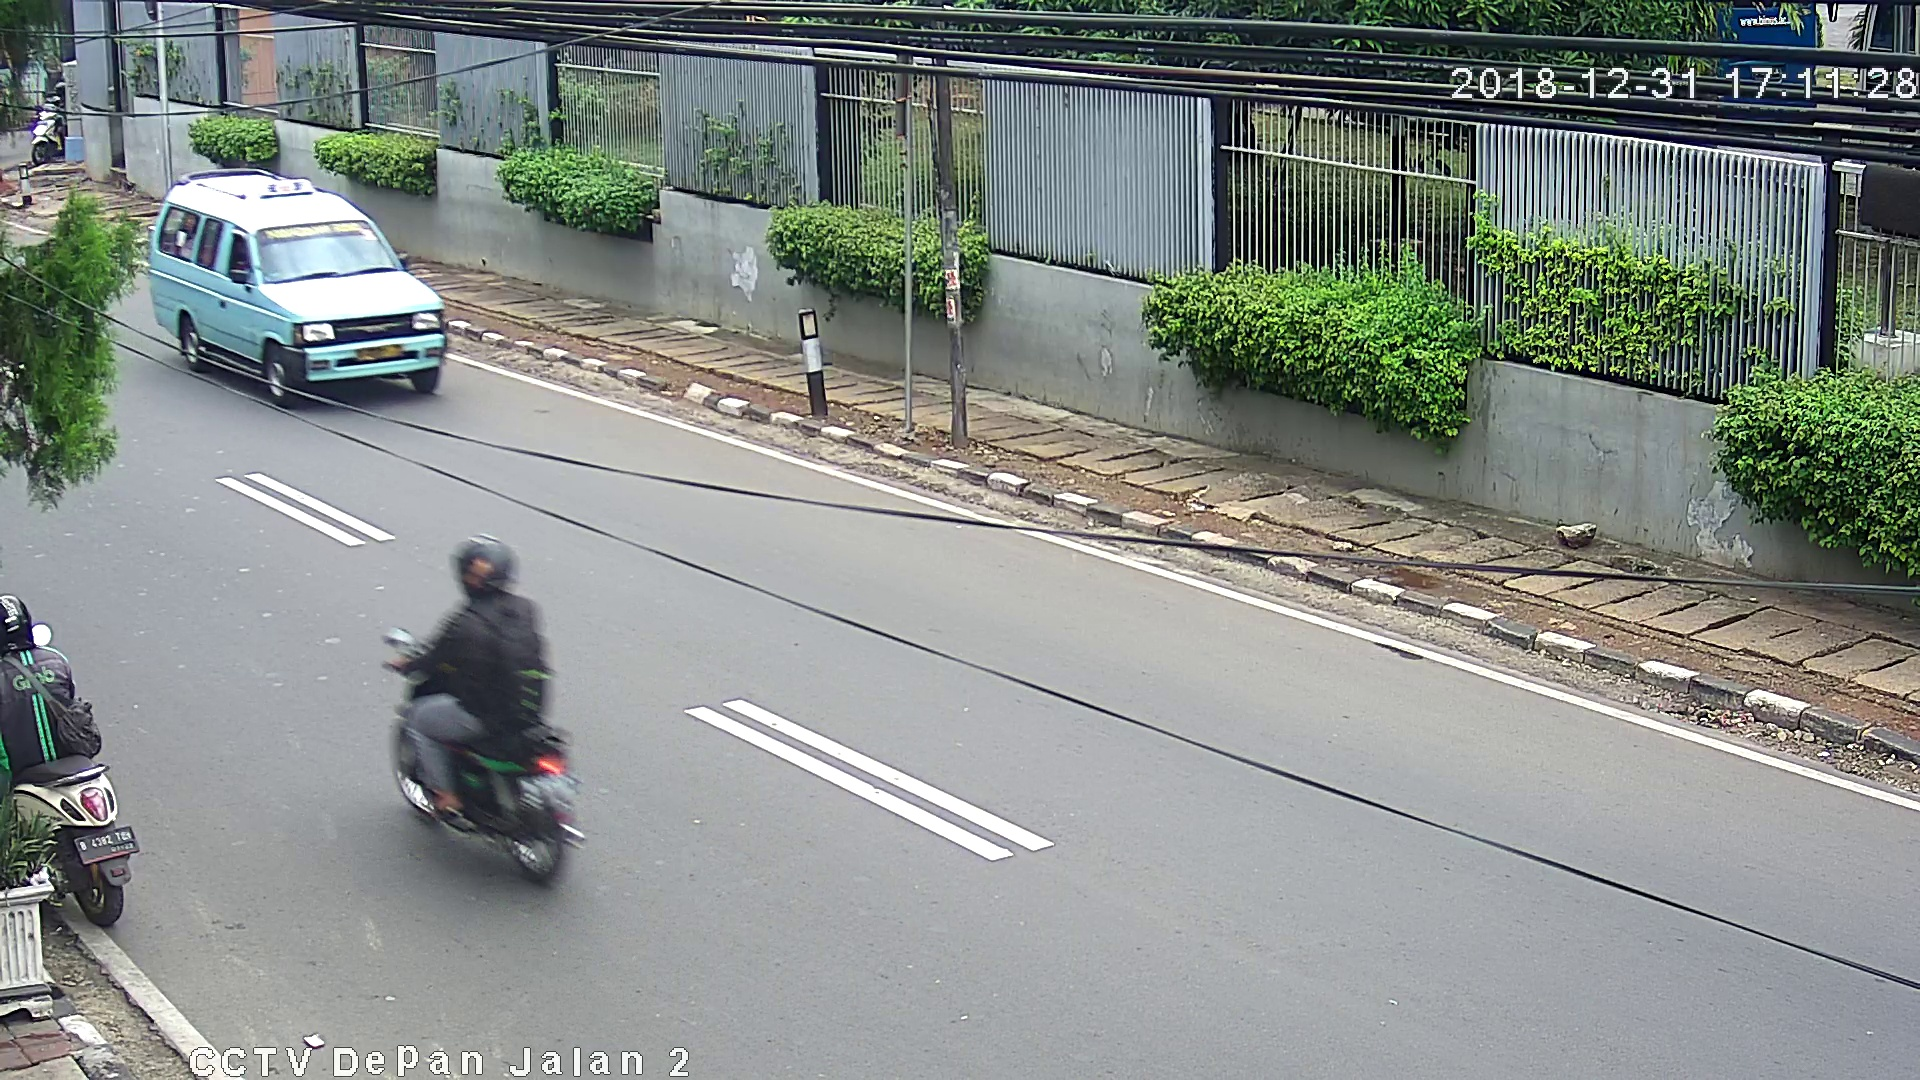car: (142, 169, 452, 411)
motorcycle: (376, 531, 585, 891), (3, 595, 133, 936)
